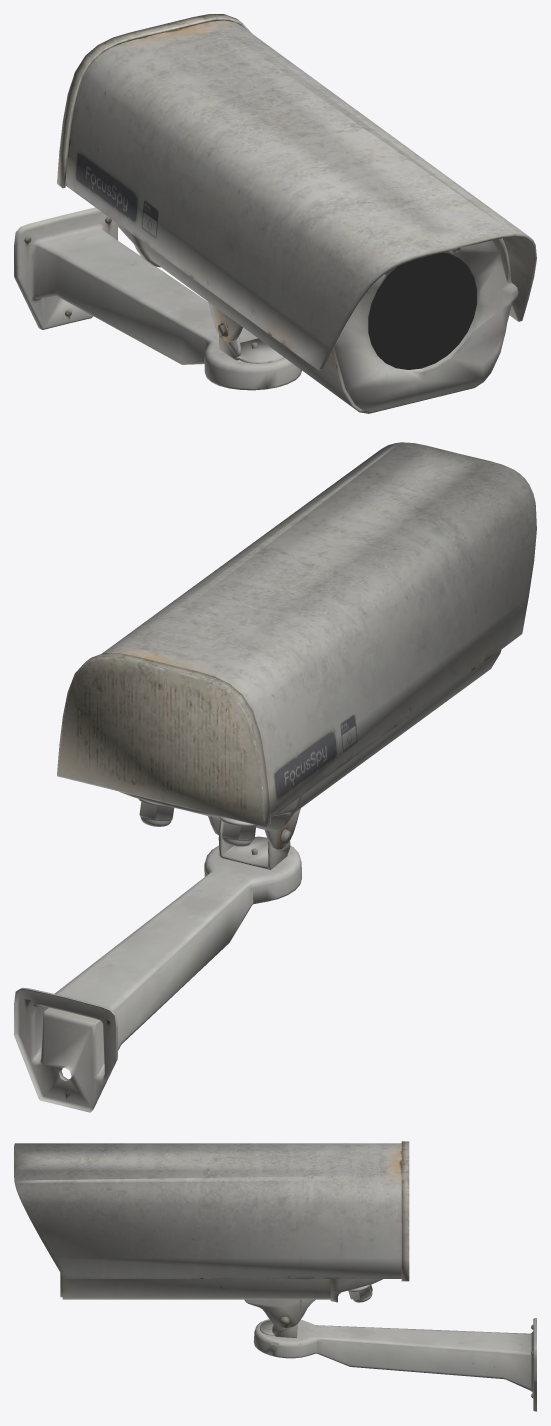
File: security_camera_01.glb
3 views of the same model, one above another, from view 1: azimuth 30°, elevation 25°; view 2: azimuth 150°, elevation 25°; view 3: azimuth 270°, elevation 25° (orthographic). The views are drawn at different scales.
Visible parts, largest first — view 1: security_camera_01; view 2: security_camera_01; view 3: security_camera_01.
Part boxes in pixels (x1=…): security_camera_01: x1=14, y1=14, x2=536, y2=413; security_camera_01: x1=14, y1=442, x2=536, y2=1112; security_camera_01: x1=14, y1=1141, x2=536, y2=1411.
Bounding box in the file's own units: 0.1695 × 0.2861 × 0.5537.
Materials: 2 (2 with a texture image).
